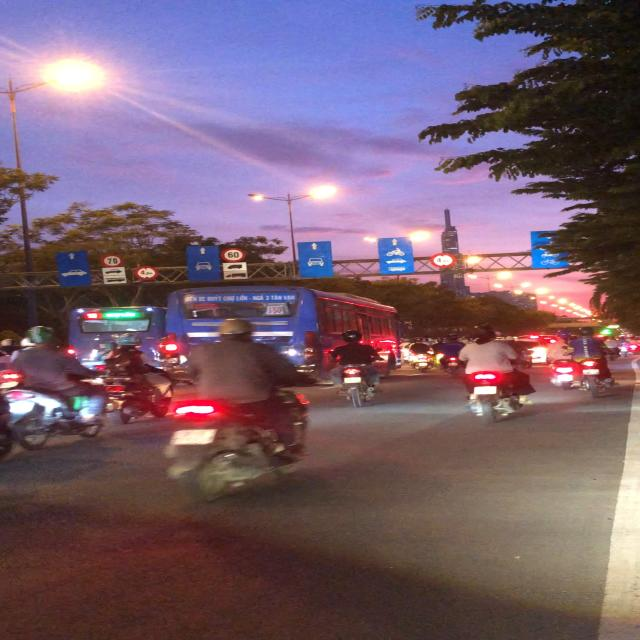Bien bao han che chieu cao: (430, 252, 459, 270), (132, 266, 159, 281)
Bien bao toc do toi da cho phep: (214, 246, 252, 264), (96, 252, 124, 268)
